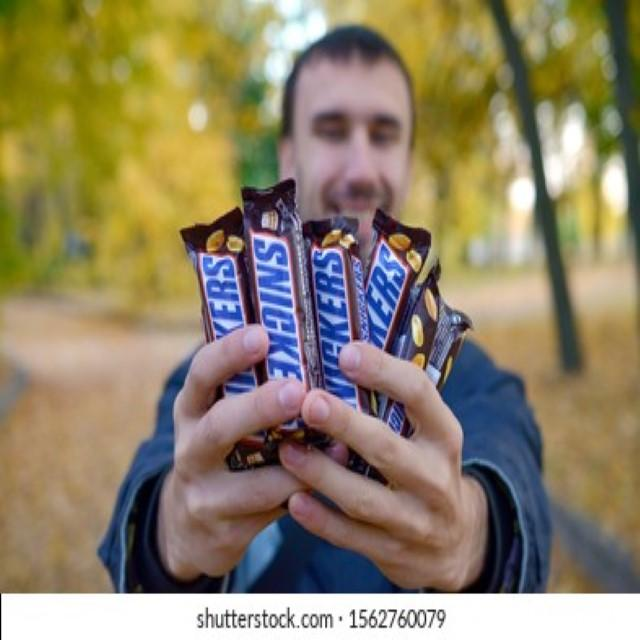snickers_chocolate: (187, 223, 287, 467), (245, 167, 317, 452), (307, 213, 388, 448), (352, 223, 433, 397)
